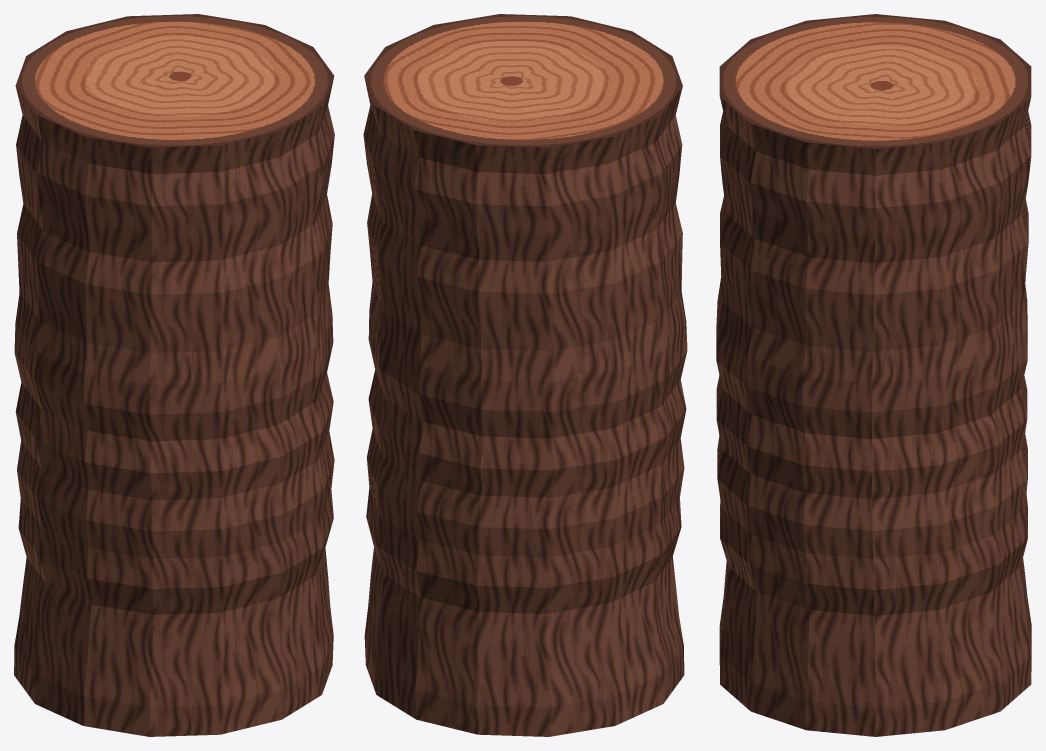
The model's file is environment_redwood2_loghalf_v2.fbx.
The picture shows the model from 3 angles, left to right: view 1: azimuth 30°, elevation 25°; view 2: azimuth 150°, elevation 25°; view 3: azimuth 270°, elevation 25°; orthographic projection.
Visible parts, largest first — view 1: environment_redwood2_loghalf_v2; view 2: environment_redwood2_loghalf_v2; view 3: environment_redwood2_loghalf_v2.
Boxes of the visible parts, x1,y1,x2,y2 form: environment_redwood2_loghalf_v2: (14,14,334,736); environment_redwood2_loghalf_v2: (363,14,687,736); environment_redwood2_loghalf_v2: (716,14,1031,736).
Bounding box in the file's own units: 498 × 1000 × 486.
